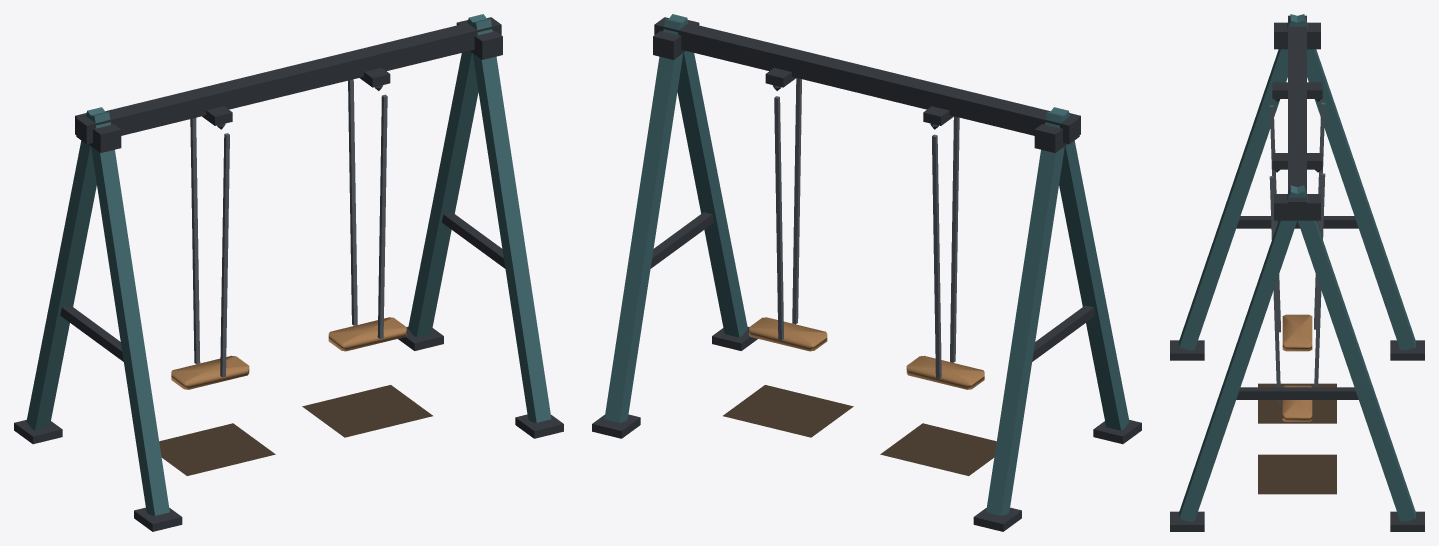
Rendered from swing-set.glb.
3 renders of one model, left to right at view 1: azimuth 30°, elevation 25°; view 2: azimuth 150°, elevation 25°; view 3: azimuth 270°, elevation 25°, orthographic. The views are drawn at different scales.
Parts seen in each view (by area): view 1: Merged_prop-body, Merged_city-metal-dark, Merged_city-soil-surface, Merged_city-metal, Merged_city-timber-light; view 2: Merged_prop-body, Merged_city-metal-dark, Merged_city-soil-surface, Merged_city-metal, Merged_city-timber-light; view 3: Merged_prop-body, Merged_city-metal-dark, Merged_city-soil-surface, Merged_city-metal, Merged_city-timber-light.
Boxes of the visible parts, x1=… form: Merged_prop-body: x1=26, y1=14, x2=551, y2=515; Merged_city-metal-dark: x1=14, y1=17, x2=563, y2=531; Merged_city-soil-surface: x1=159, y1=385, x2=432, y2=475; Merged_city-metal: x1=190, y1=79, x2=387, y2=377; Merged_city-timber-light: x1=171, y1=317, x2=406, y2=389; Merged_prop-body: x1=604, y1=14, x2=1129, y2=515; Merged_city-metal-dark: x1=592, y1=17, x2=1141, y2=531; Merged_city-soil-surface: x1=723, y1=385, x2=996, y2=475; Merged_city-metal: x1=774, y1=78, x2=959, y2=378; Merged_city-timber-light: x1=749, y1=317, x2=984, y2=389; Merged_prop-body: x1=1179, y1=14, x2=1415, y2=521; Merged_city-metal-dark: x1=1170, y1=15, x2=1424, y2=531; Merged_city-soil-surface: x1=1258, y1=383, x2=1336, y2=494; Merged_city-metal: x1=1269, y1=102, x2=1325, y2=402; Merged_city-timber-light: x1=1282, y1=314, x2=1312, y2=421.
Size of what is drawn, in the model's own units: 2.8 by 2.36 by 1.62.
